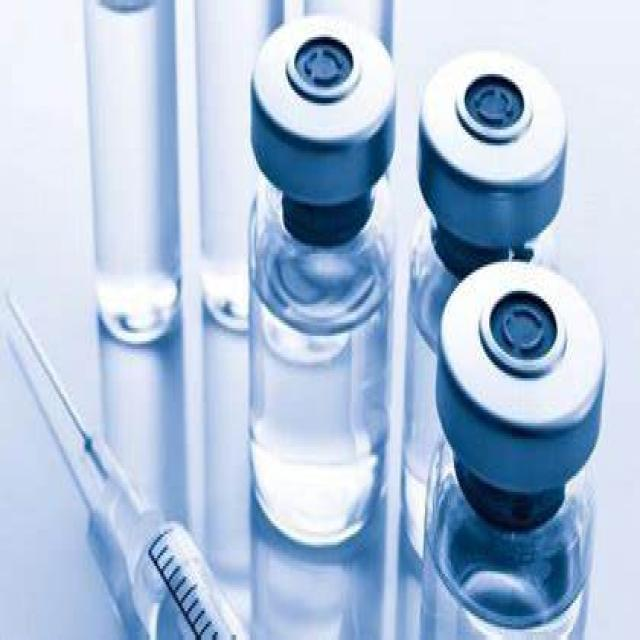vial: (411, 46, 578, 202), (443, 258, 604, 416), (254, 28, 389, 136)
